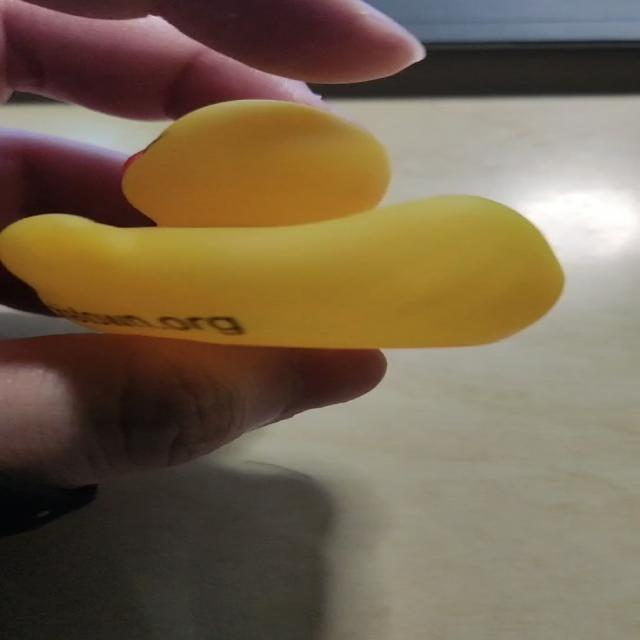rubber-duck: (0, 100, 562, 346)
